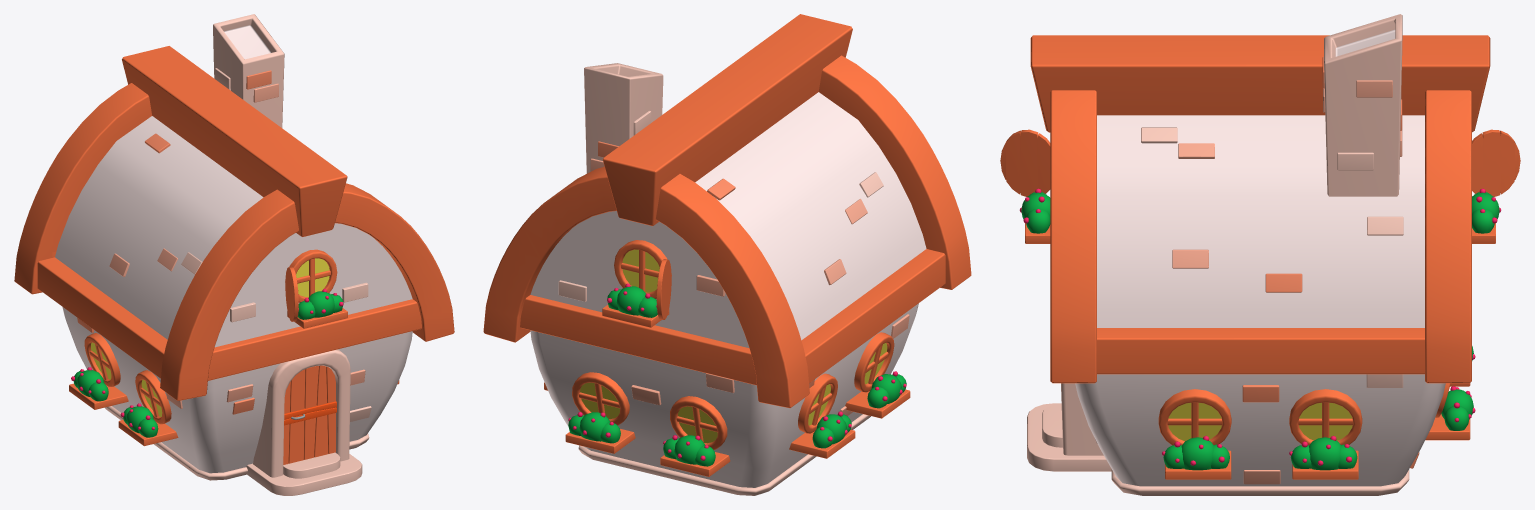
File: Farm_1_House_1.glb
3 renders of one model, left to right at view 1: azimuth 30°, elevation 25°; view 2: azimuth 150°, elevation 25°; view 3: azimuth 270°, elevation 25°, orthographic. The views are drawn at different scales.
Parts seen in each view (by area): view 1: Farm_1_House_1; view 2: Farm_1_House_1; view 3: Farm_1_House_1.
Part boxes in pixels (x1,y1,x2,y2): Farm_1_House_1: (14,14,454,495); Farm_1_House_1: (483,14,971,495); Farm_1_House_1: (1000,14,1520,495).
Size of the model in its own units: 5.9 by 7.12 by 7.43.
1 material, 1 textured.
